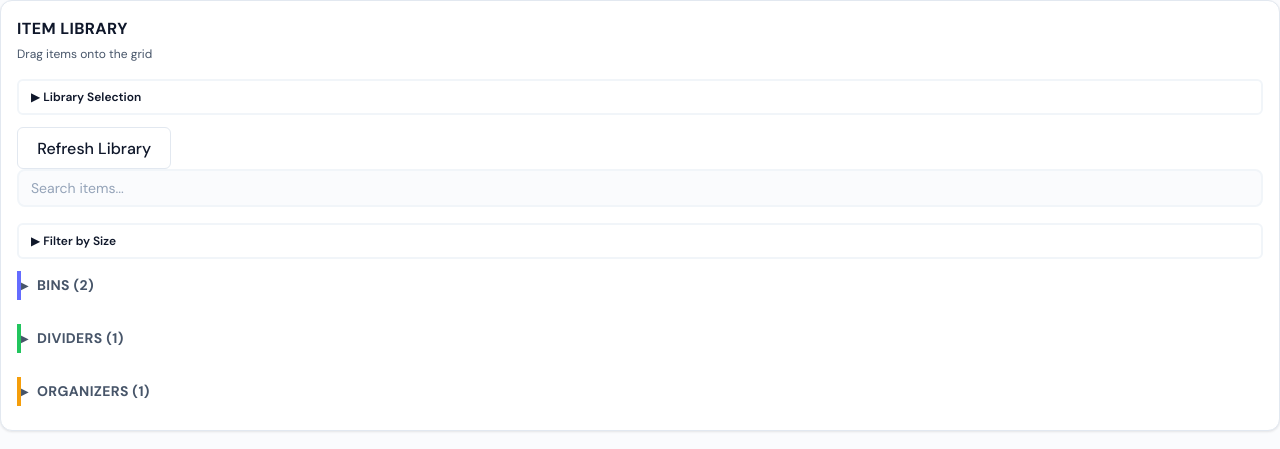
Test case: ItemLibrary › should show clear button when search has text
Type "bin" into the field with placeholder "Search items...". click: coordinates (640, 188)
box: [17,169,1263,207]
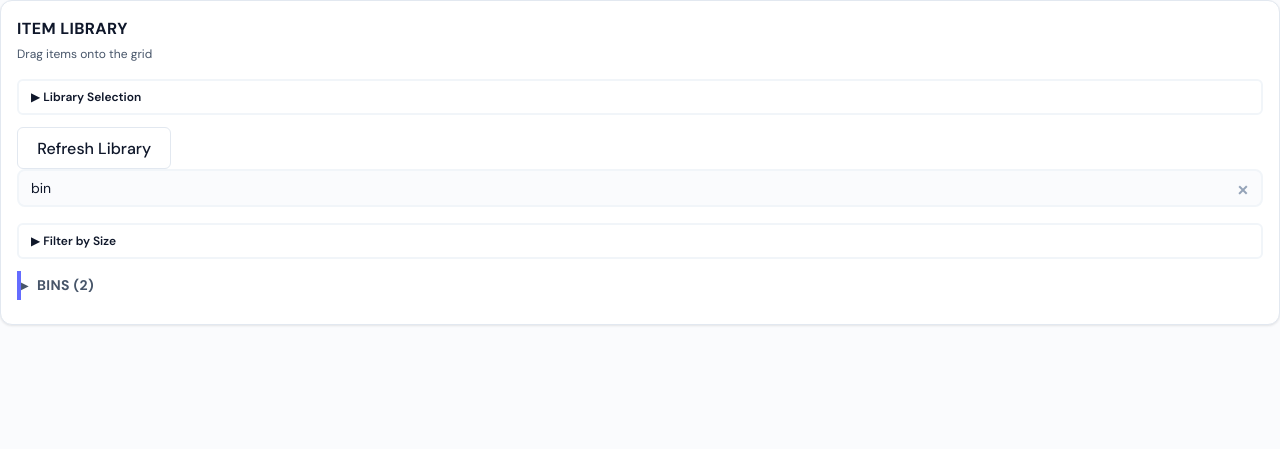
Expected: the button named "Clear search" is shown, [1231,176,1255,200]
